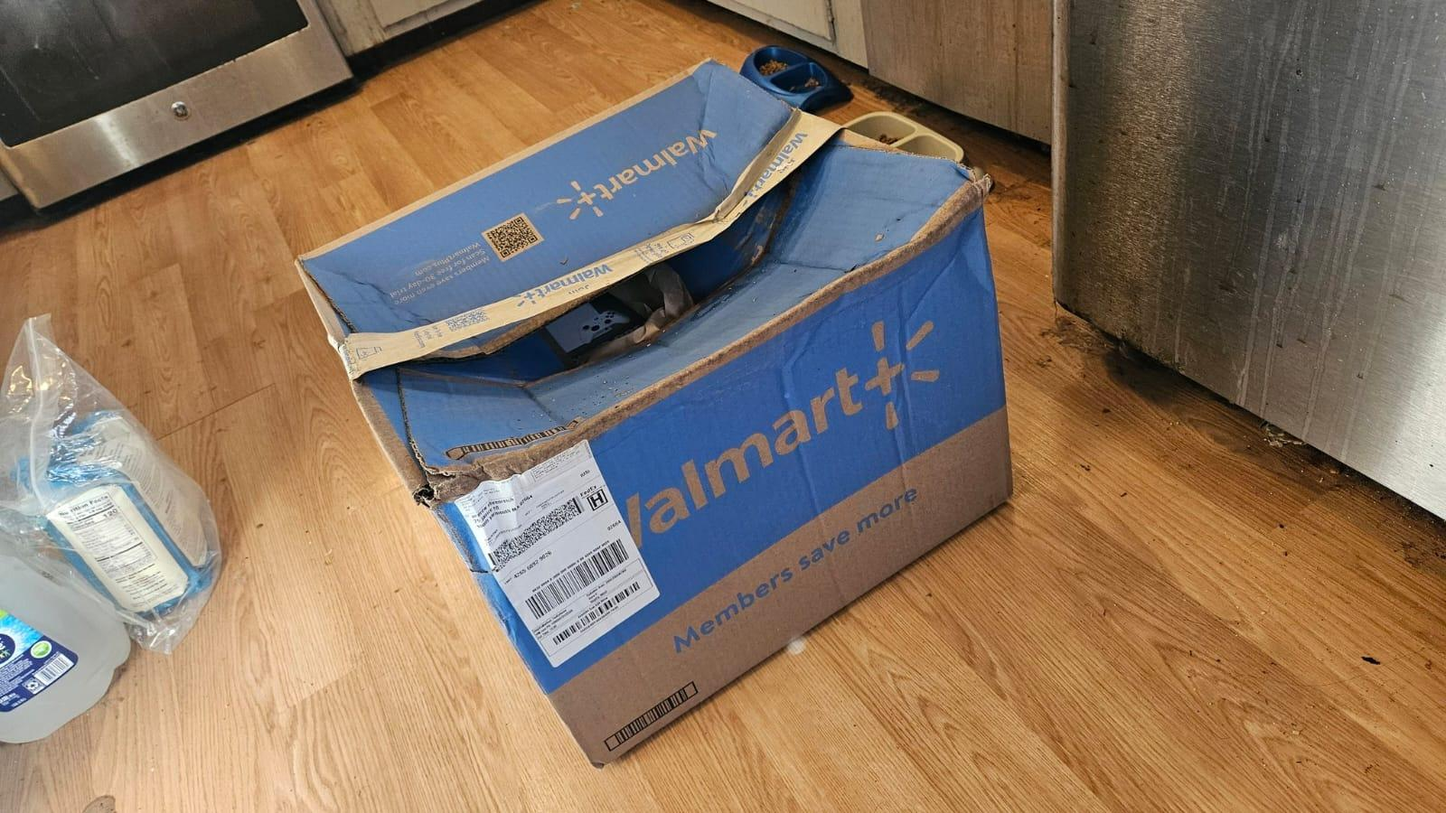damaged package: (374, 143, 839, 385), (408, 444, 520, 506)
undamaged: (274, 42, 1031, 786)
